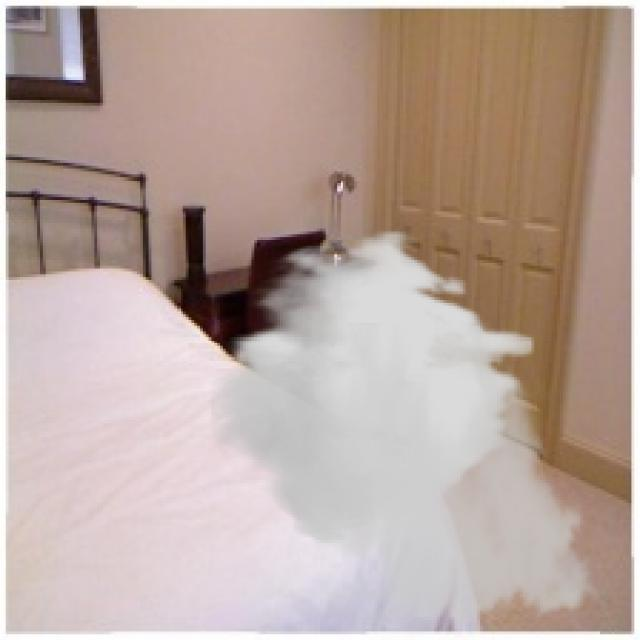Smoke: (212, 228, 612, 638)
